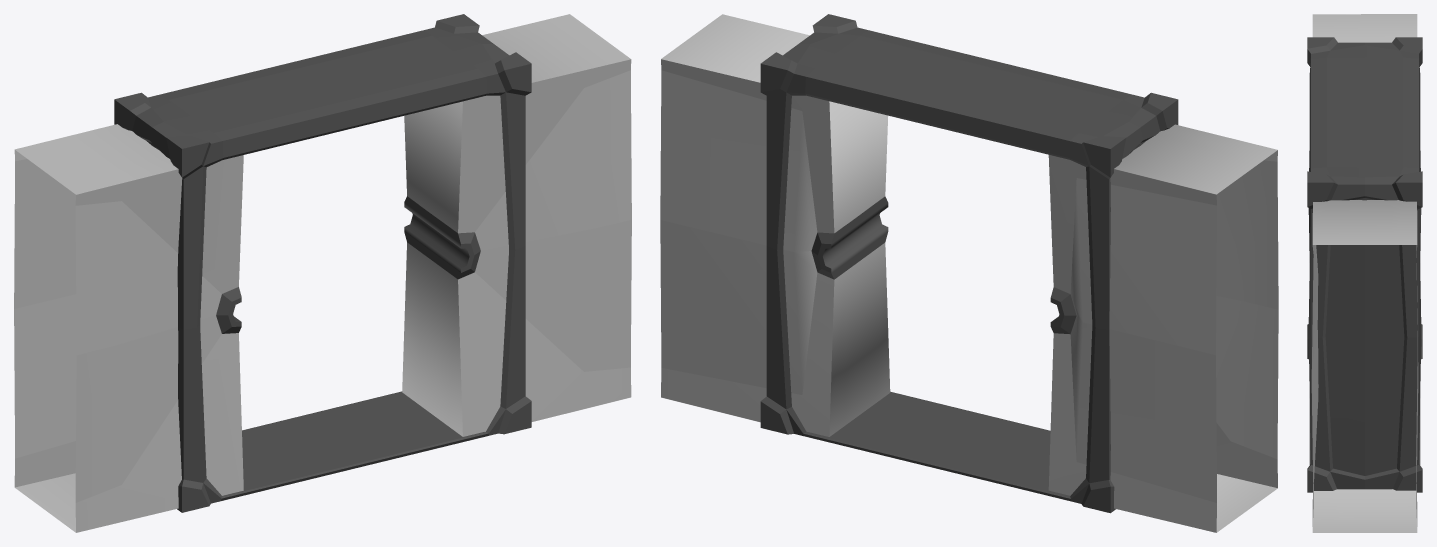
The model's file is doorOpen.fbx.
3 renders of one model, left to right at view 1: azimuth 30°, elevation 25°; view 2: azimuth 150°, elevation 25°; view 3: azimuth 270°, elevation 25°, orthographic. The views are drawn at different scales.
Parts seen in each view (by area): view 1: pDoorOpen; view 2: pDoorOpen; view 3: pDoorOpen.
Part boxes in pixels (x1=…): pDoorOpen: x1=14, y1=14, x2=631, y2=532; pDoorOpen: x1=660, y1=14, x2=1278, y2=532; pDoorOpen: x1=1307, y1=14, x2=1422, y2=532.
Bounding box in the file's own units: 5.07 × 3.17 × 1.07.
1 material, 1 textured.
